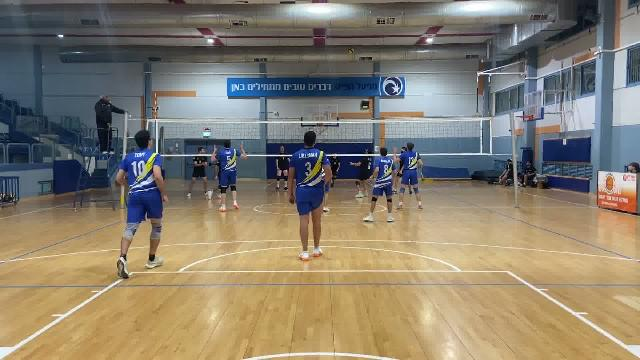ball: (346, 46, 355, 56)
